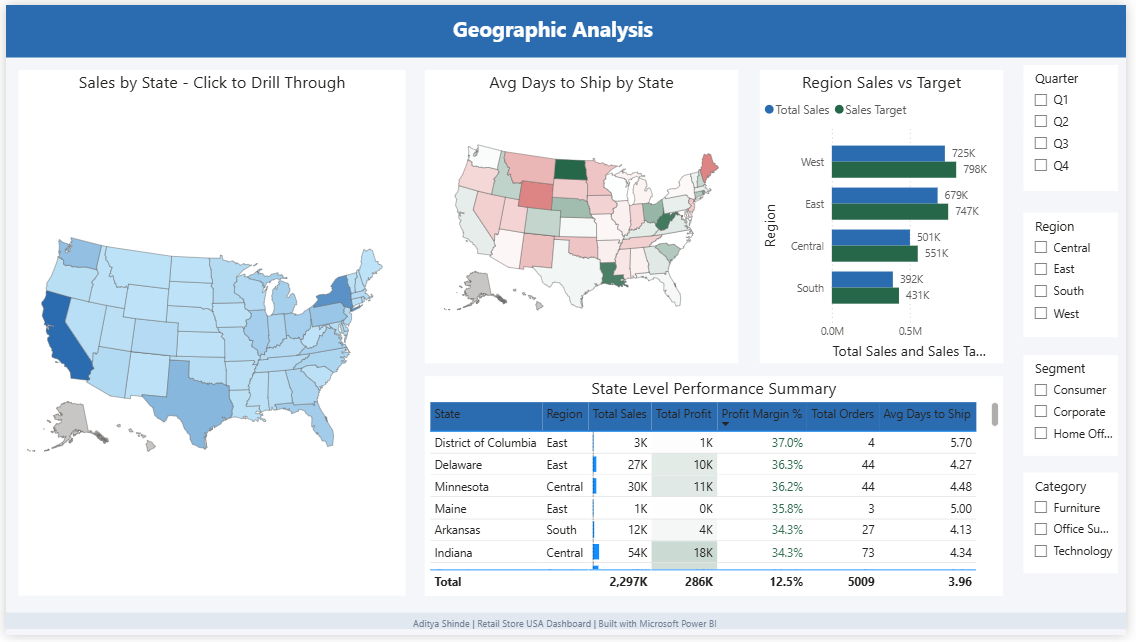

What the dashboard file says about the page in this screenshot:
{"tool":"powerbi","page":{"name":"Geographic Analysis","canvas":[1280,720],"ordinal":3},"visuals":[{"type":"shape","box":[0,0,1280,60.3],"z":0},{"type":"shape","box":[0,695,1280,25],"z":1000},{"type":"textbox","box":[457.2,691,365.6,29],"z":2000},{"type":"textbox","box":[505.5,6,270.2,48.3],"z":3000},{"type":"shapeMap","title":"Sales by State - Click to Drill Through","fields":{"Category":["Orders.State"],"Value":["Measure.Total Sales"]},"box":[14.5,74.8,442.8,600.8],"z":4000},{"type":"clusteredBarChart","title":"Region Sales vs Target","fields":{"Category":["Orders.Region"],"Y":["Measure.Total Sales","Measure.Sales Target"]},"box":[861.4,74.8,278.7,335.4],"z":5000},{"type":"shapeMap","fields":{"Category":["Orders.State"],"Value":["Measure.Avg Days to Ship"]},"box":[479,74.8,358.3,335.4],"z":6000},{"type":"tableEx","title":"State Level Performance Summary","fields":{"Values":["Orders.State","Orders.Region","Measure.Total Sales","Measure.Total Profit","Measure.Profit Margin %","Measure.Total Orders","Measure.Avg Days to Ship"]},"box":[479,424.7,661.1,250.9],"z":7000},{"type":"slicer","fields":{"Values":["DateTable.Quarter"]},"box":[1163,68,108,144],"z":8000},{"type":"slicer","fields":{"Values":["Orders.Region"]},"box":[1163,237,108,142],"z":9000},{"type":"slicer","fields":{"Values":["Orders.Segment"]},"box":[1163,400,108,115],"z":10000},{"type":"slicer","fields":{"Values":["Orders.Category"]},"box":[1163,534,108,115],"z":11000}]}

Visuals, with their boxes in screenshot pixels (x1, y1, x2, y2), scaled from the page's 1280x720 canvas onto the 1136x642 screenshot:
shape: bbox(0, 0, 1135, 54)
shape: bbox(0, 620, 1135, 641)
textbox: bbox(406, 616, 730, 641)
textbox: bbox(449, 5, 688, 48)
"Sales by State - Click to Drill Through" shapeMap: bbox(13, 67, 406, 602)
"Region Sales vs Target" clusteredBarChart: bbox(764, 67, 1012, 366)
shapeMap - Orders.State x Measure.Avg Days to Ship: bbox(425, 67, 743, 366)
"State Level Performance Summary" tableEx: bbox(425, 379, 1012, 602)
slicer - DateTable.Quarter: bbox(1032, 61, 1128, 189)
slicer - Orders.Region: bbox(1032, 211, 1128, 338)
slicer - Orders.Segment: bbox(1032, 357, 1128, 459)
slicer - Orders.Category: bbox(1032, 476, 1128, 579)
